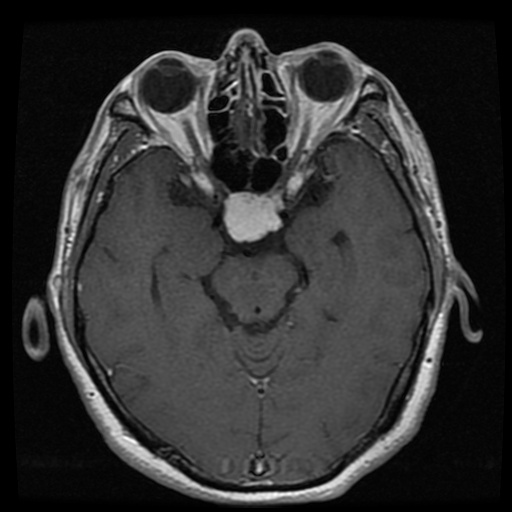meningioma: (224, 190, 285, 242)
